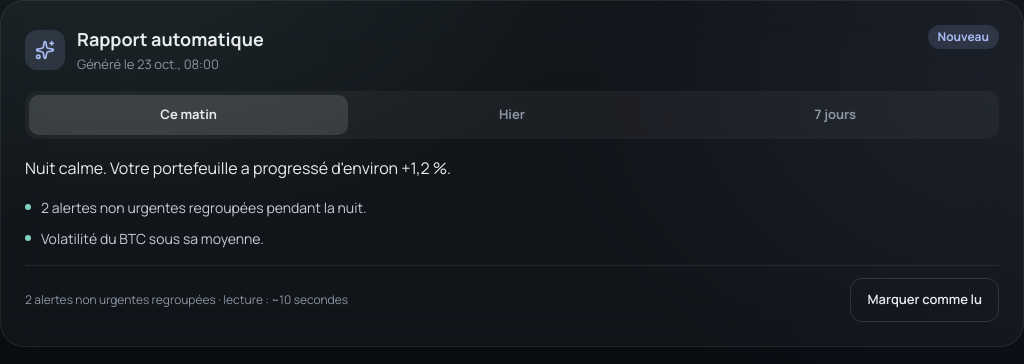
Test case: DigestCard › l'onglet « 7 jours » montre la synthèse hebdomadaire avec sa période
Click the button "7 jours" at (835, 114), box left=676, top=94, right=995, bottom=134
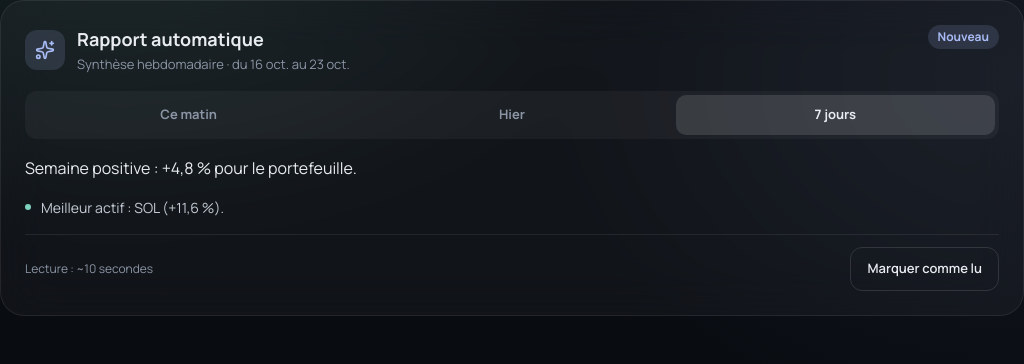
expect the text "Semaine positive : +4,8 % pour le portefeuille." is shown: met, box left=25, top=156, right=357, bottom=178
expect the text "Synthèse hebdomadaire · du 16 oct. au 23 oct." is shown: met, box left=77, top=55, right=350, bottom=74
